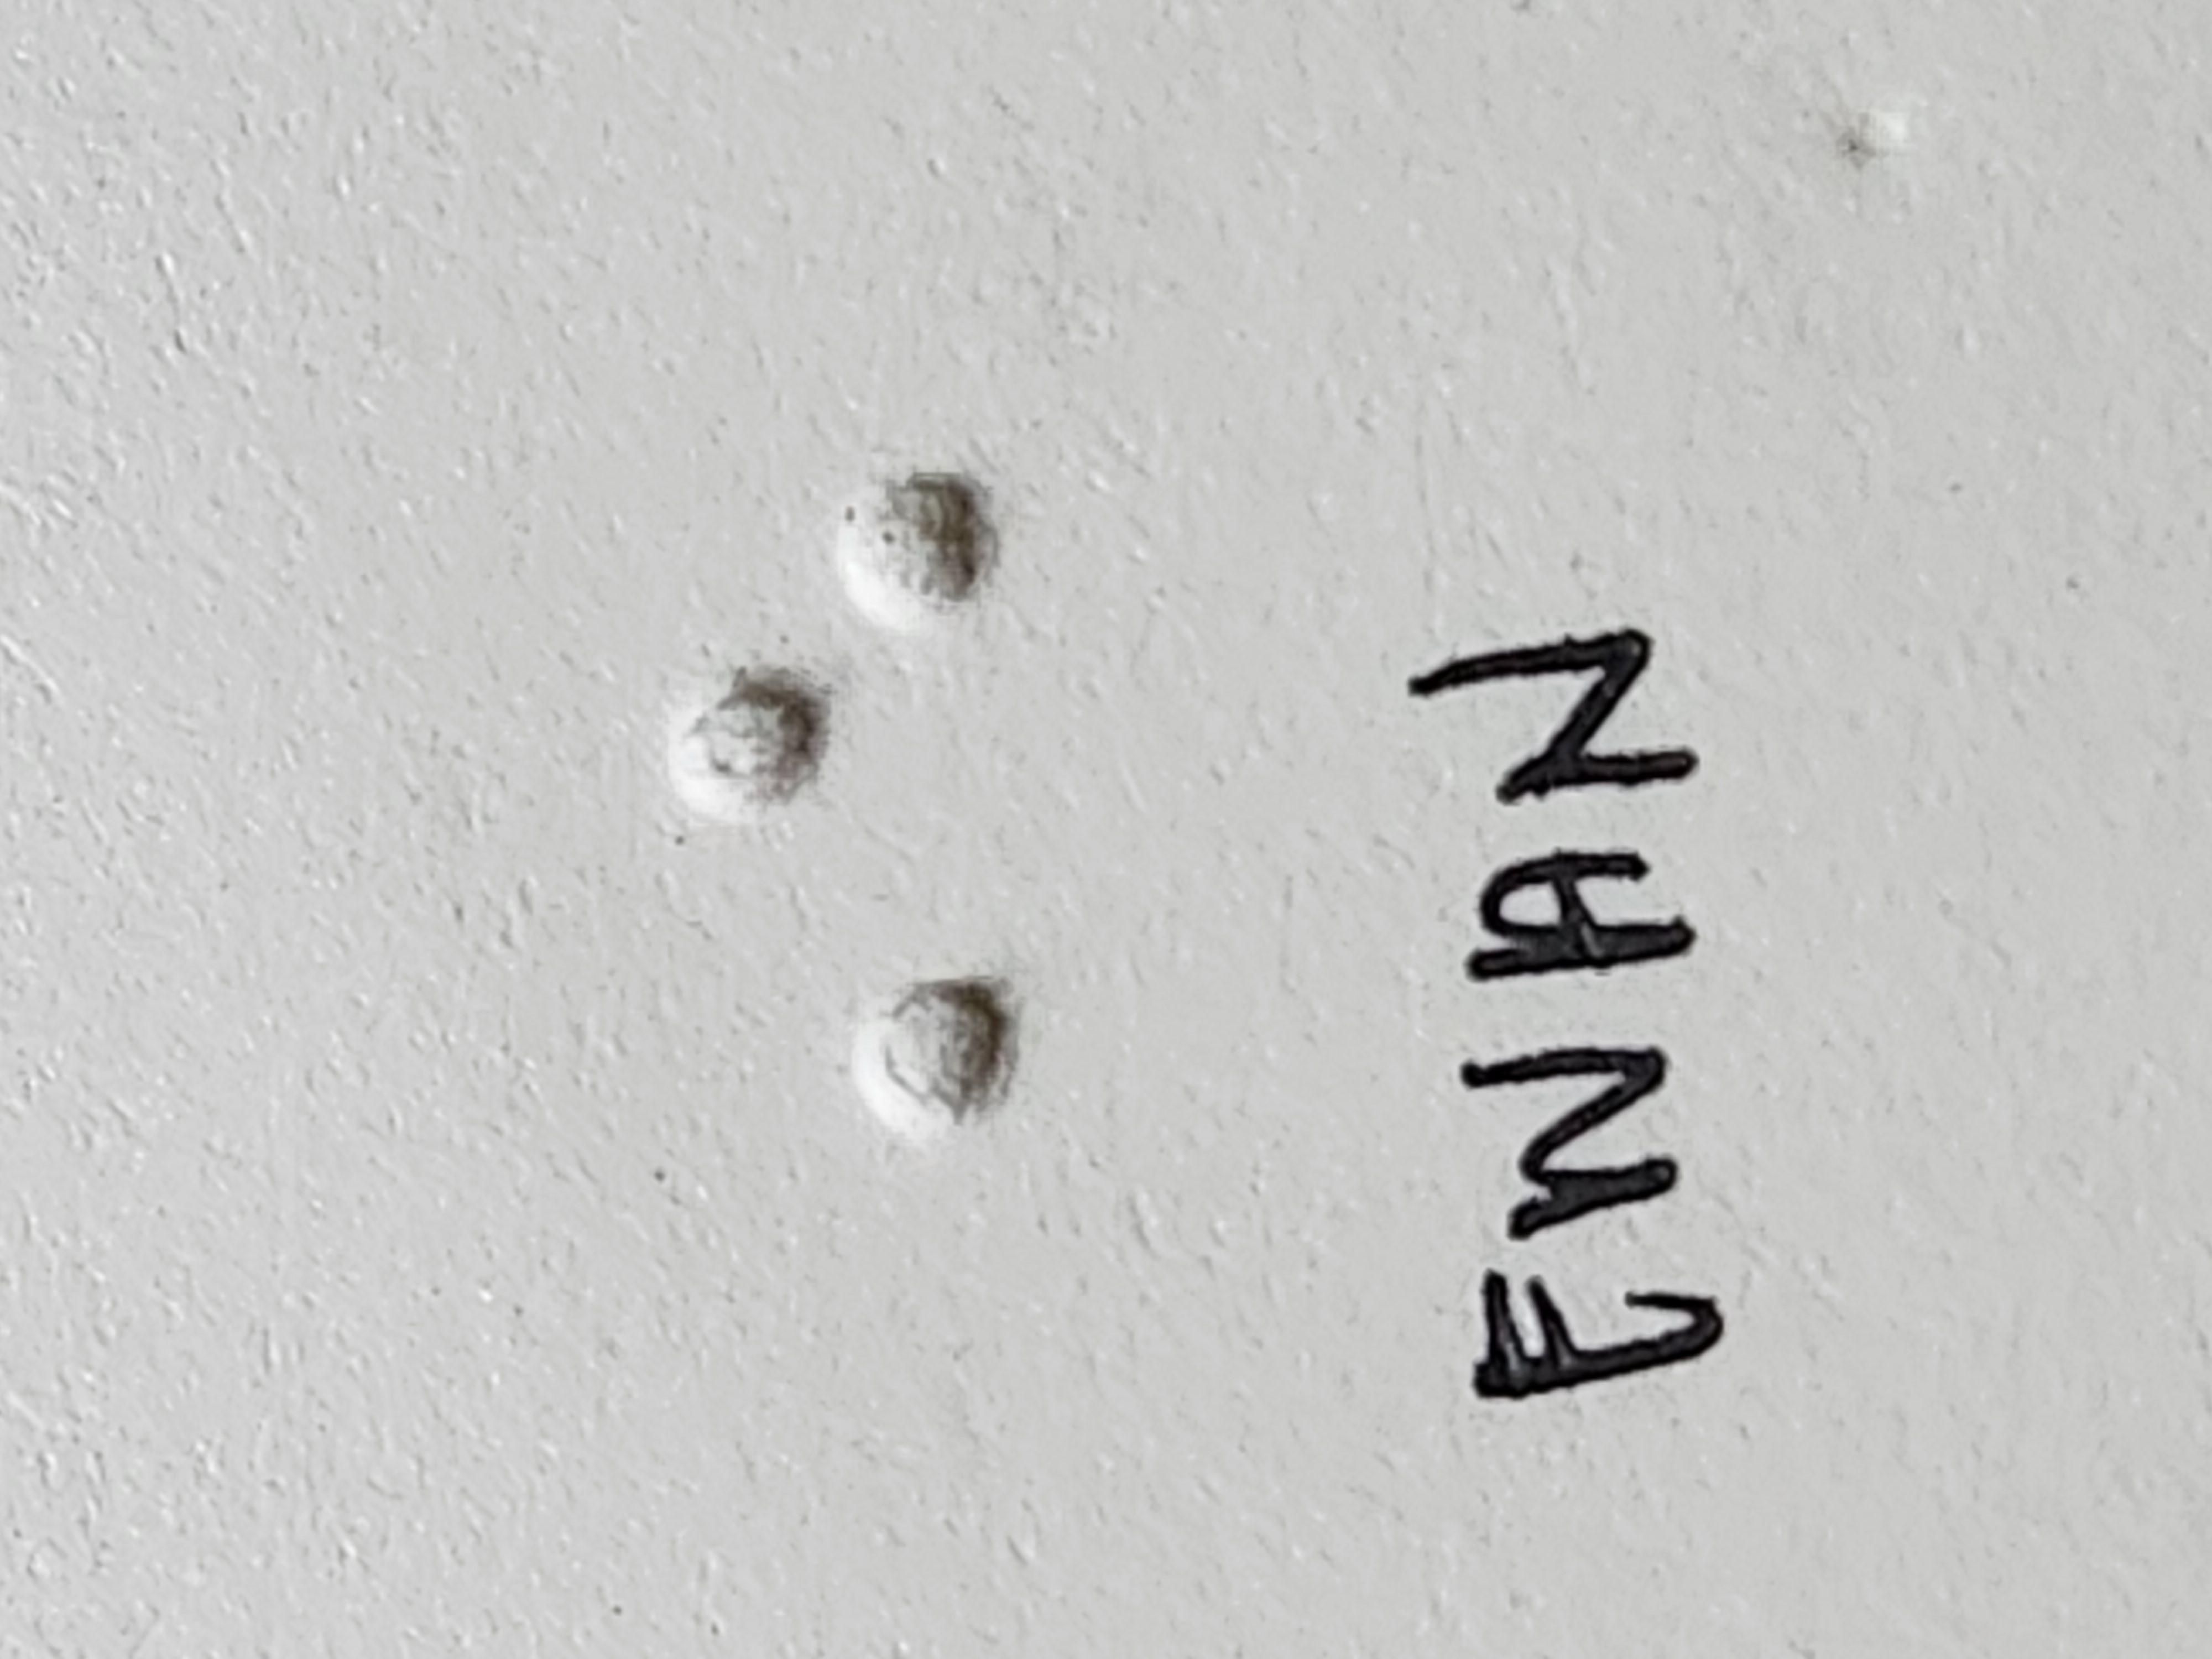dot_5: (421, 495, 904, 941)
two_cell_alphabet_ewan: (1101, 495, 1581, 941)
